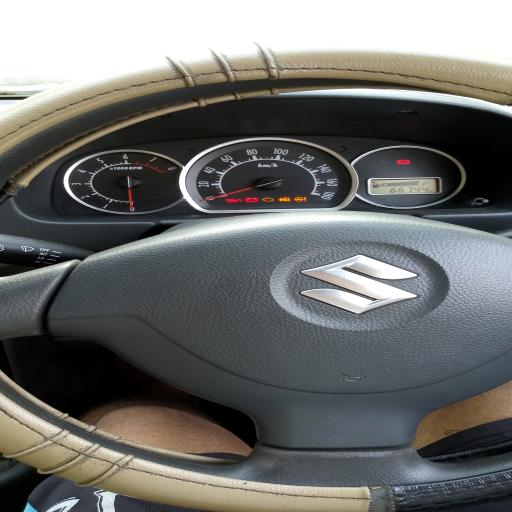brake_system_fault: (397, 159, 410, 165)
car_closed: (278, 196, 291, 202)
check_engine: (262, 198, 274, 202)
oil: (225, 198, 241, 203)
tachometer: (64, 149, 180, 214)
vehicle_charging: (244, 198, 259, 202)
